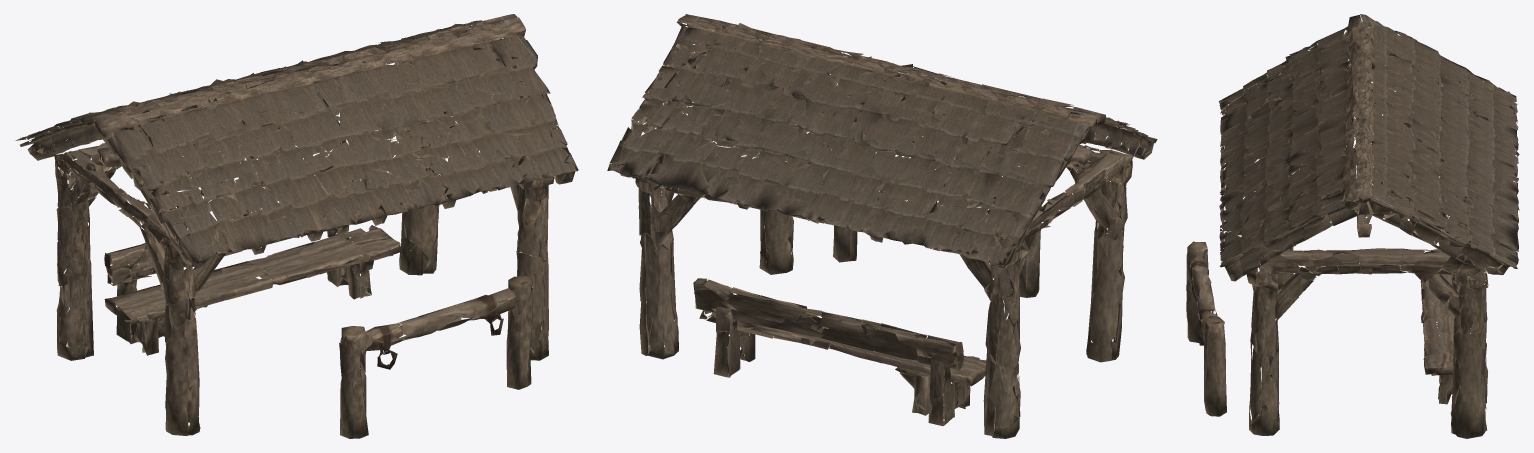
File: postoj_wozow.glb
The picture shows the model from 3 angles, left to right: view 1: azimuth 30°, elevation 25°; view 2: azimuth 150°, elevation 25°; view 3: azimuth 270°, elevation 25°; orthographic projection. The views are drawn at different scales.
Parts seen in each view (by area): view 1: Mesh_0; view 2: Mesh_0; view 3: Mesh_0.
Boxes of the visible parts, x1=… form: Mesh_0: x1=15, y1=14, x2=578, y2=438; Mesh_0: x1=607, y1=14, x2=1157, y2=438; Mesh_0: x1=1186, y1=14, x2=1519, y2=438.
Bounding box in the file's own units: 1.91 × 1.25 × 1.47.
1 material, 1 textured.
